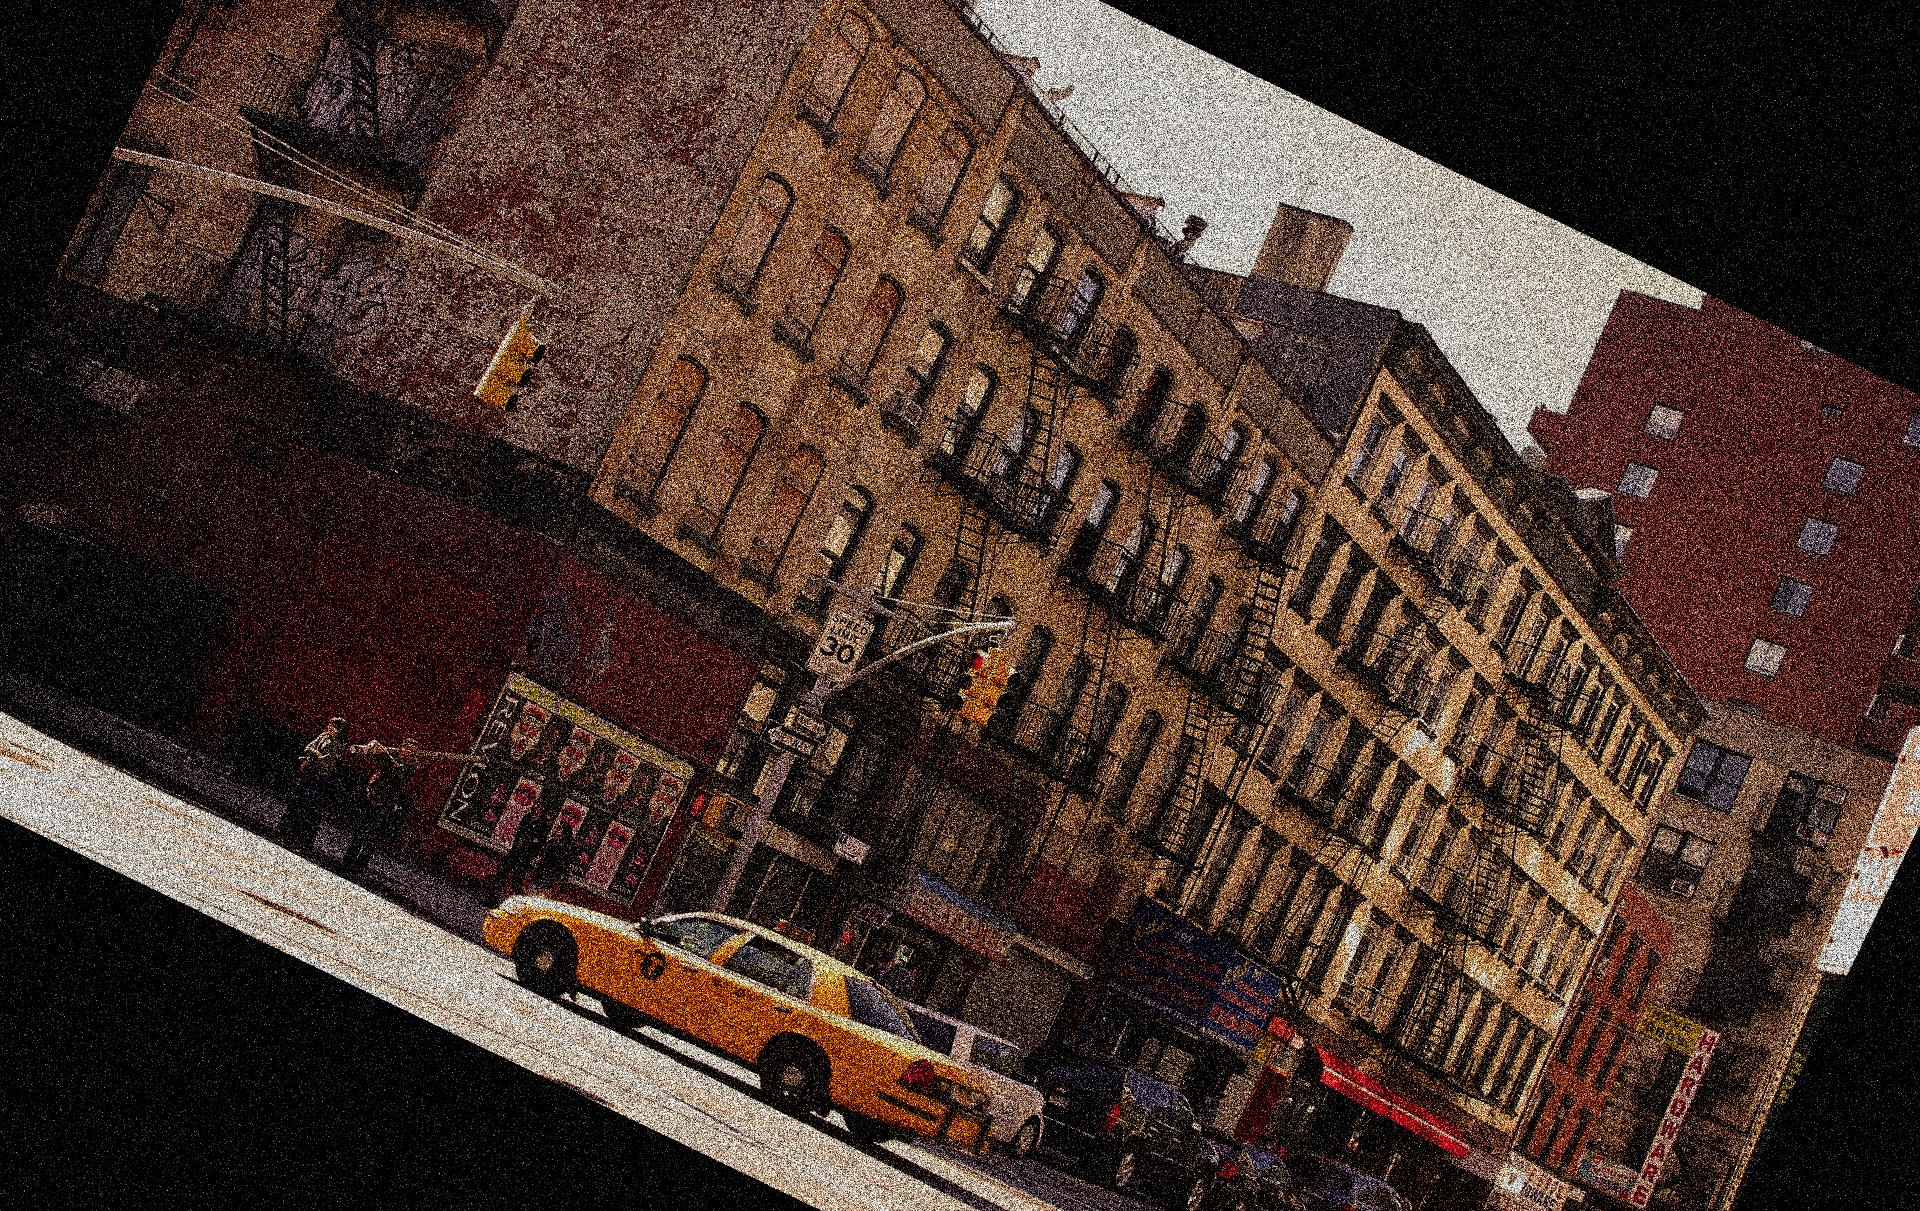taxi: (460, 854, 993, 1157)
